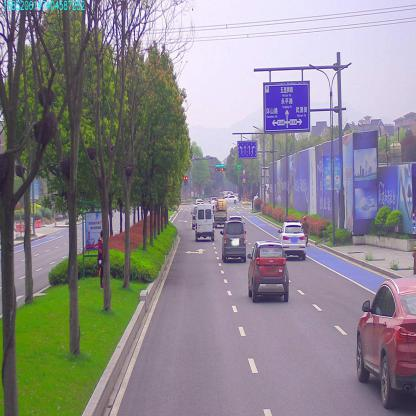traffic-light: (217, 162, 225, 166), (221, 165, 226, 170), (214, 166, 219, 171)
